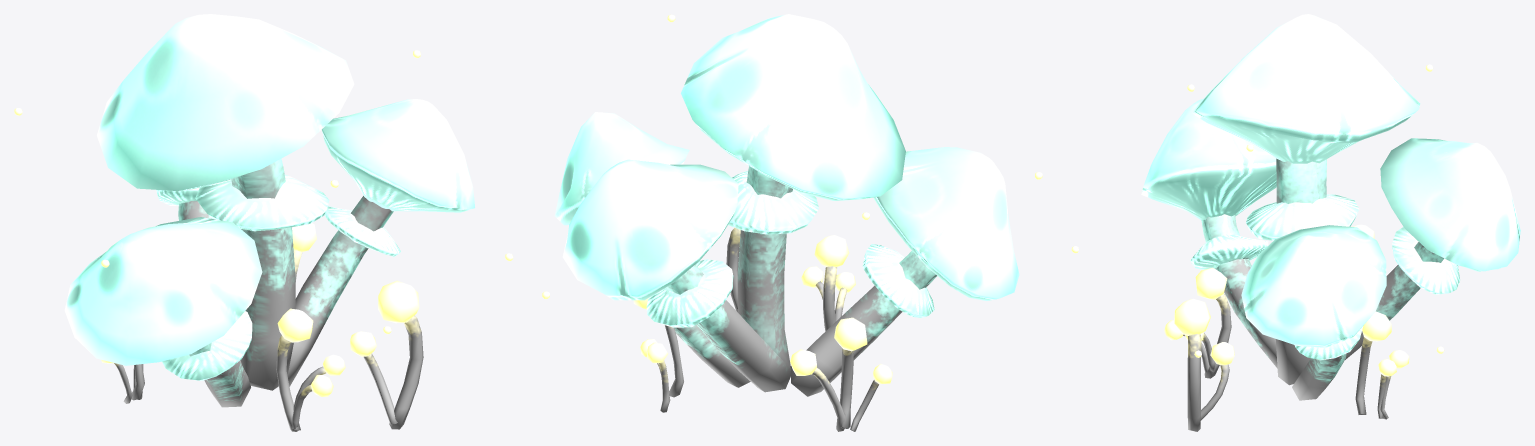
File: grib 1,0.fbx
The picture shows the model from 3 angles, left to right: view 1: azimuth 30°, elevation 25°; view 2: azimuth 150°, elevation 25°; view 3: azimuth 270°, elevation 25°; orthographic projection. The views are drawn at different scales.
Parts seen in each view (by area): view 1: LP grib+, LP grib+.001; view 2: LP grib+, LP grib+.001; view 3: LP grib+, LP grib+.001.
Boxes of the visible parts, x1,y1,x2,y2 form: LP grib+: (64, 14, 474, 431); LP grib+.001: (14, 50, 513, 396); LP grib+: (554, 14, 1019, 431); LP grib+.001: (542, 14, 1042, 384); LP grib+: (1141, 14, 1520, 431); LP grib+.001: (1071, 64, 1444, 376).
Bounding box in the file's own units: 1345 × 1200 × 1377.
